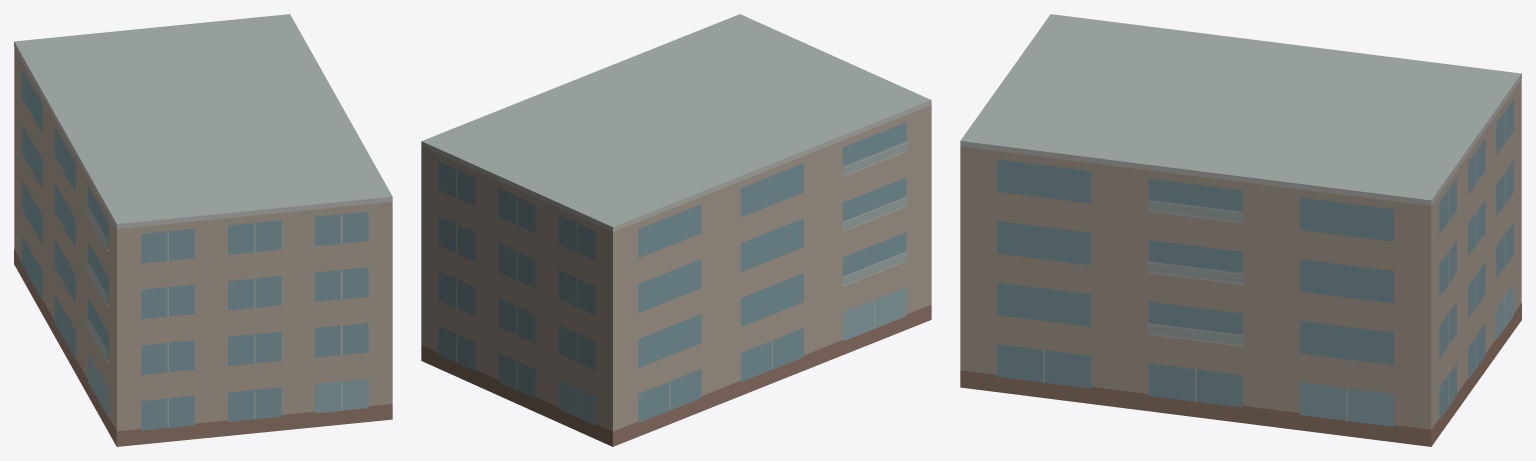
File: survey-upis-32656010.glb
The picture shows the model from 3 angles, left to right: view 1: azimuth 30°, elevation 25°; view 2: azimuth 150°, elevation 25°; view 3: azimuth 270°, elevation 25°; orthographic projection. The views are drawn at different scales.
Visible parts, largest first — view 1: survey-upis-32656010.tmp; view 2: survey-upis-32656010.tmp; view 3: survey-upis-32656010.tmp.
Part boxes in pixels (x1=…): survey-upis-32656010.tmp: x1=14, y1=14, x2=392, y2=446; survey-upis-32656010.tmp: x1=421, y1=14, x2=931, y2=446; survey-upis-32656010.tmp: x1=960, y1=14, x2=1521, y2=446.
Size of the model in its own units: 17.52 by 10.8 by 22.31.
